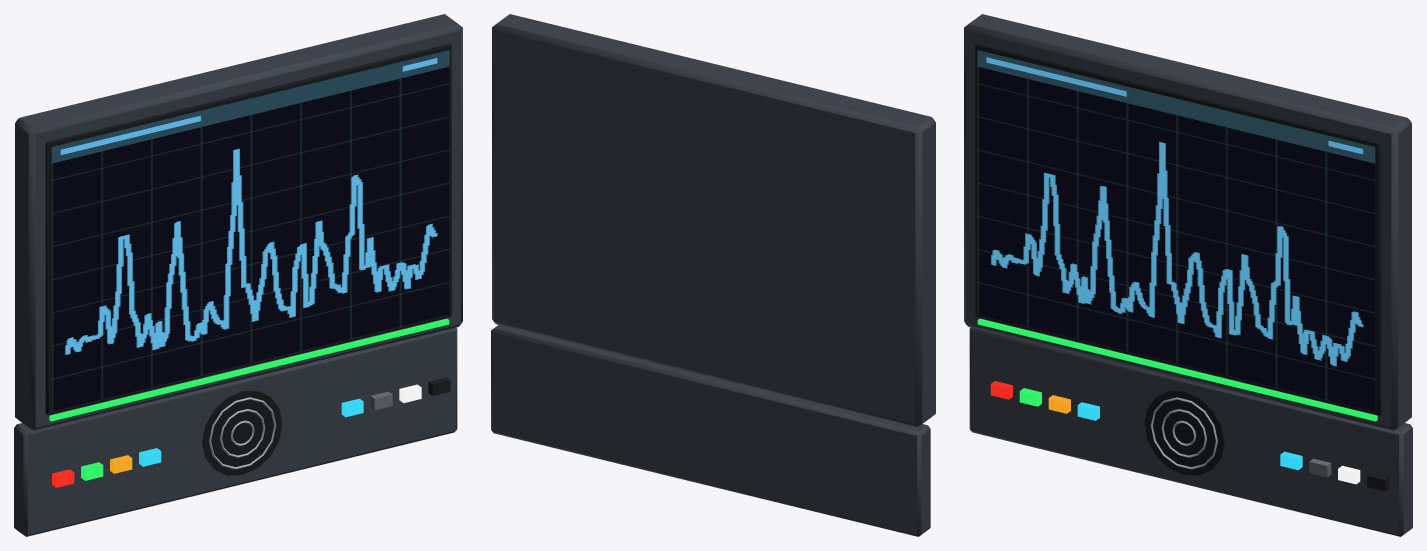
The model's file is display_comms_log_board.glb.
The picture shows the model from 3 angles, left to right: view 1: azimuth 30°, elevation 25°; view 2: azimuth 150°, elevation 25°; view 3: azimuth 330°, elevation 25°; orthographic projection.
Visible parts, largest first — view 1: display_comms_log_board; view 2: display_comms_log_board; view 3: display_comms_log_board.
Boxes of the visible parts, x1=… form: display_comms_log_board: x1=14, y1=14, x2=462, y2=536; display_comms_log_board: x1=491, y1=14, x2=935, y2=536; display_comms_log_board: x1=964, y1=14, x2=1412, y2=536.
Size of the model in its own units: 1.2 by 1.09 by 0.101.
Materials: 11 (1 with a texture image).
